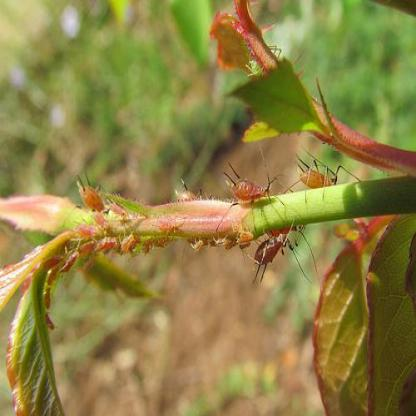aphid: (216, 152, 287, 212), (247, 226, 317, 282), (294, 151, 356, 189), (68, 180, 109, 212), (169, 174, 212, 203), (215, 230, 258, 254), (185, 230, 219, 254), (68, 221, 94, 252), (95, 230, 119, 260), (143, 229, 167, 255), (38, 284, 54, 316), (120, 230, 137, 257), (37, 311, 56, 335), (45, 257, 61, 282)
